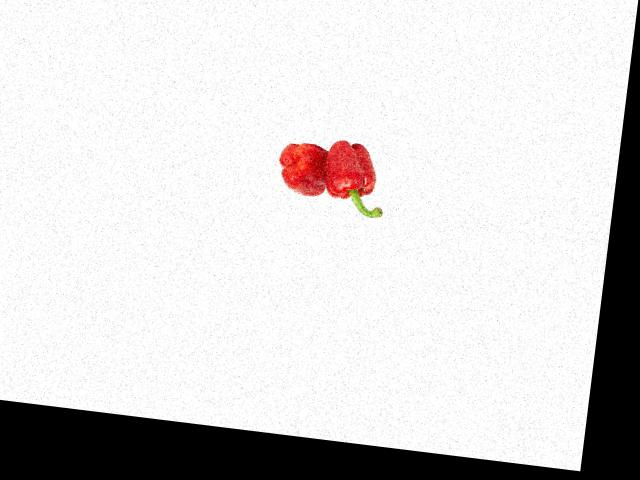bell_pepper: (275, 137, 331, 201)
